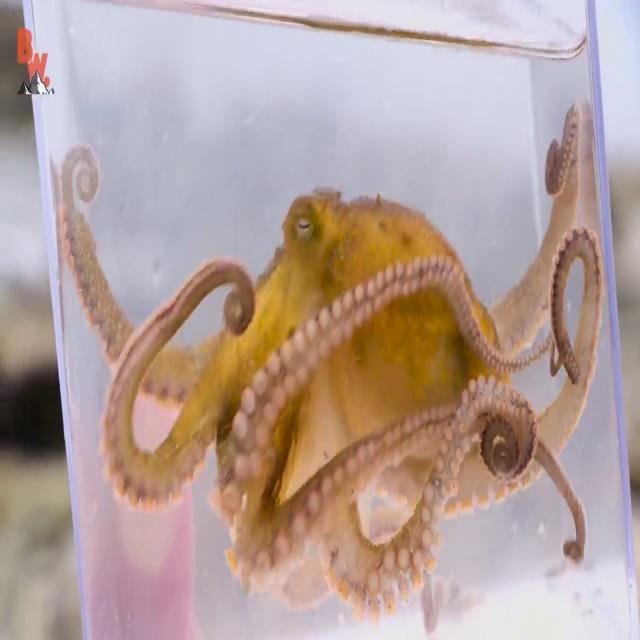octopus: (59, 94, 606, 615)
